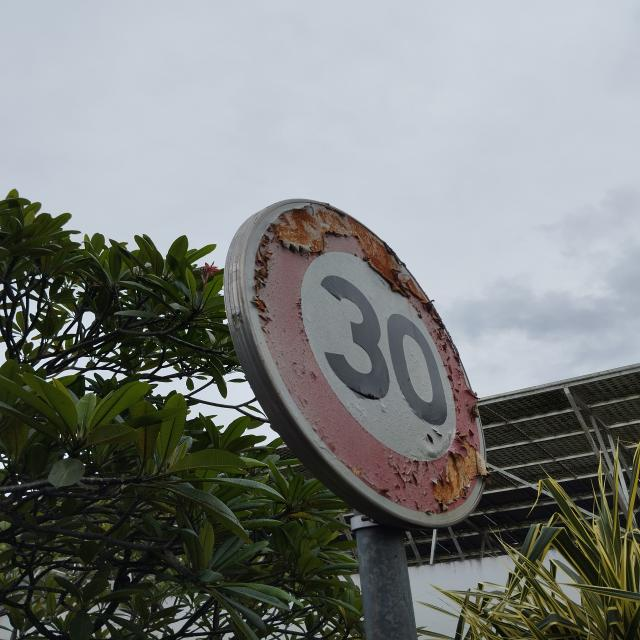Limite-30: (225, 207, 488, 529)
